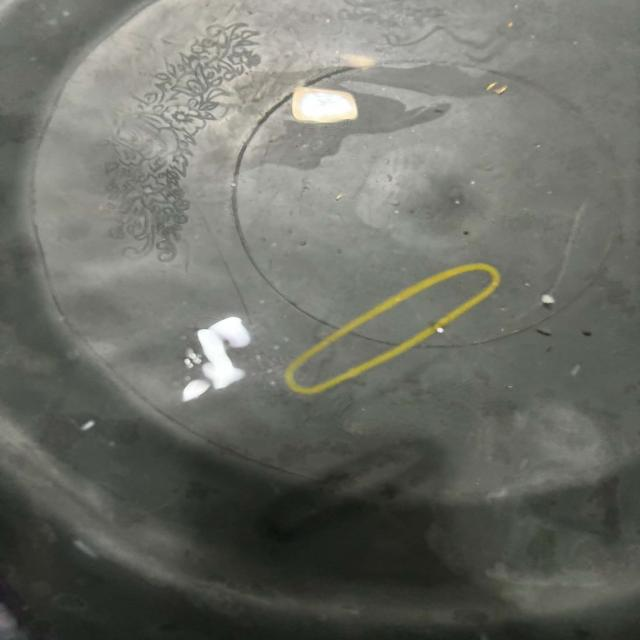Rubberband: (284, 263, 500, 396)
